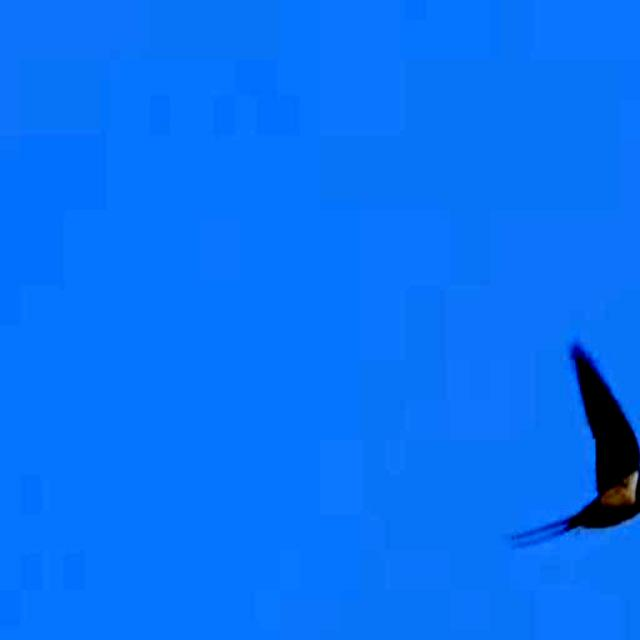airplane: (518, 335, 640, 562)
